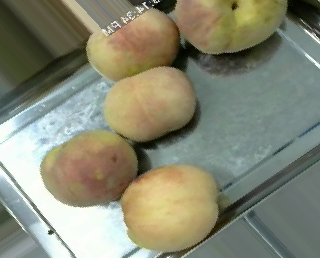Peach: (120, 162, 219, 252), (41, 129, 139, 207), (105, 66, 198, 142), (86, 7, 181, 81), (175, 0, 286, 55)
